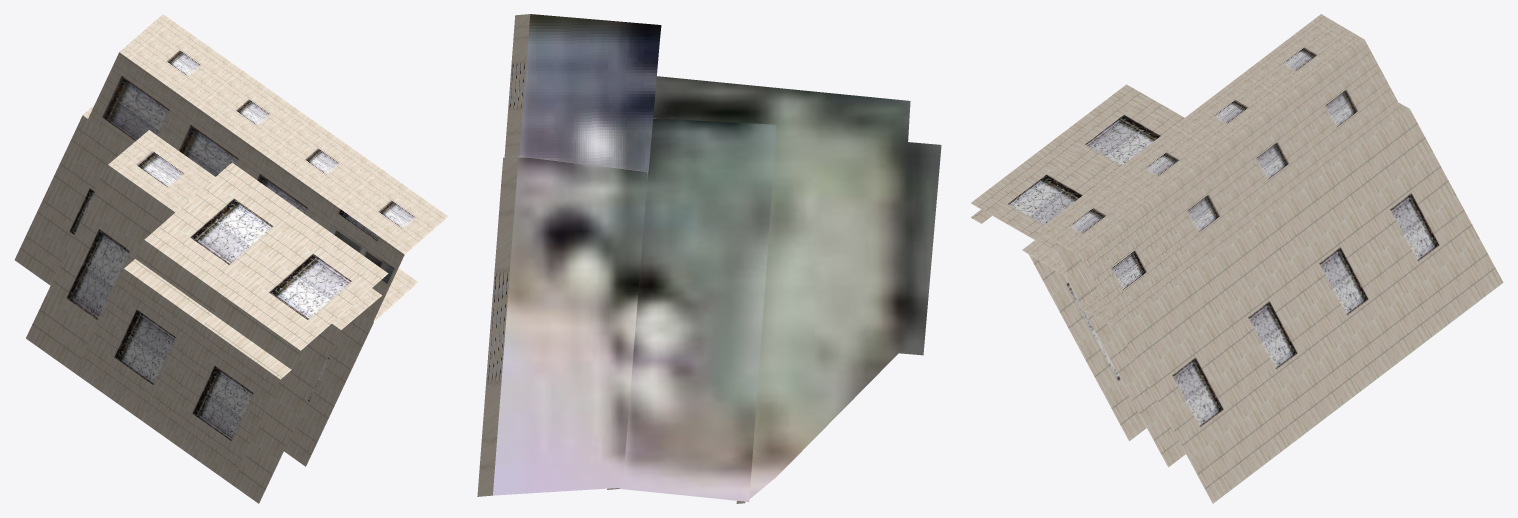
The picture shows the model from 3 angles, left to right: view 1: azimuth 30°, elevation 25°; view 2: azimuth 150°, elevation 25°; view 3: azimuth 270°, elevation 25°; orthographic projection. The views are drawn at different scales.
Bounding box in the file's own units: 12.43 × 14.93 × 17.43.
12 materials, 12 textured.
